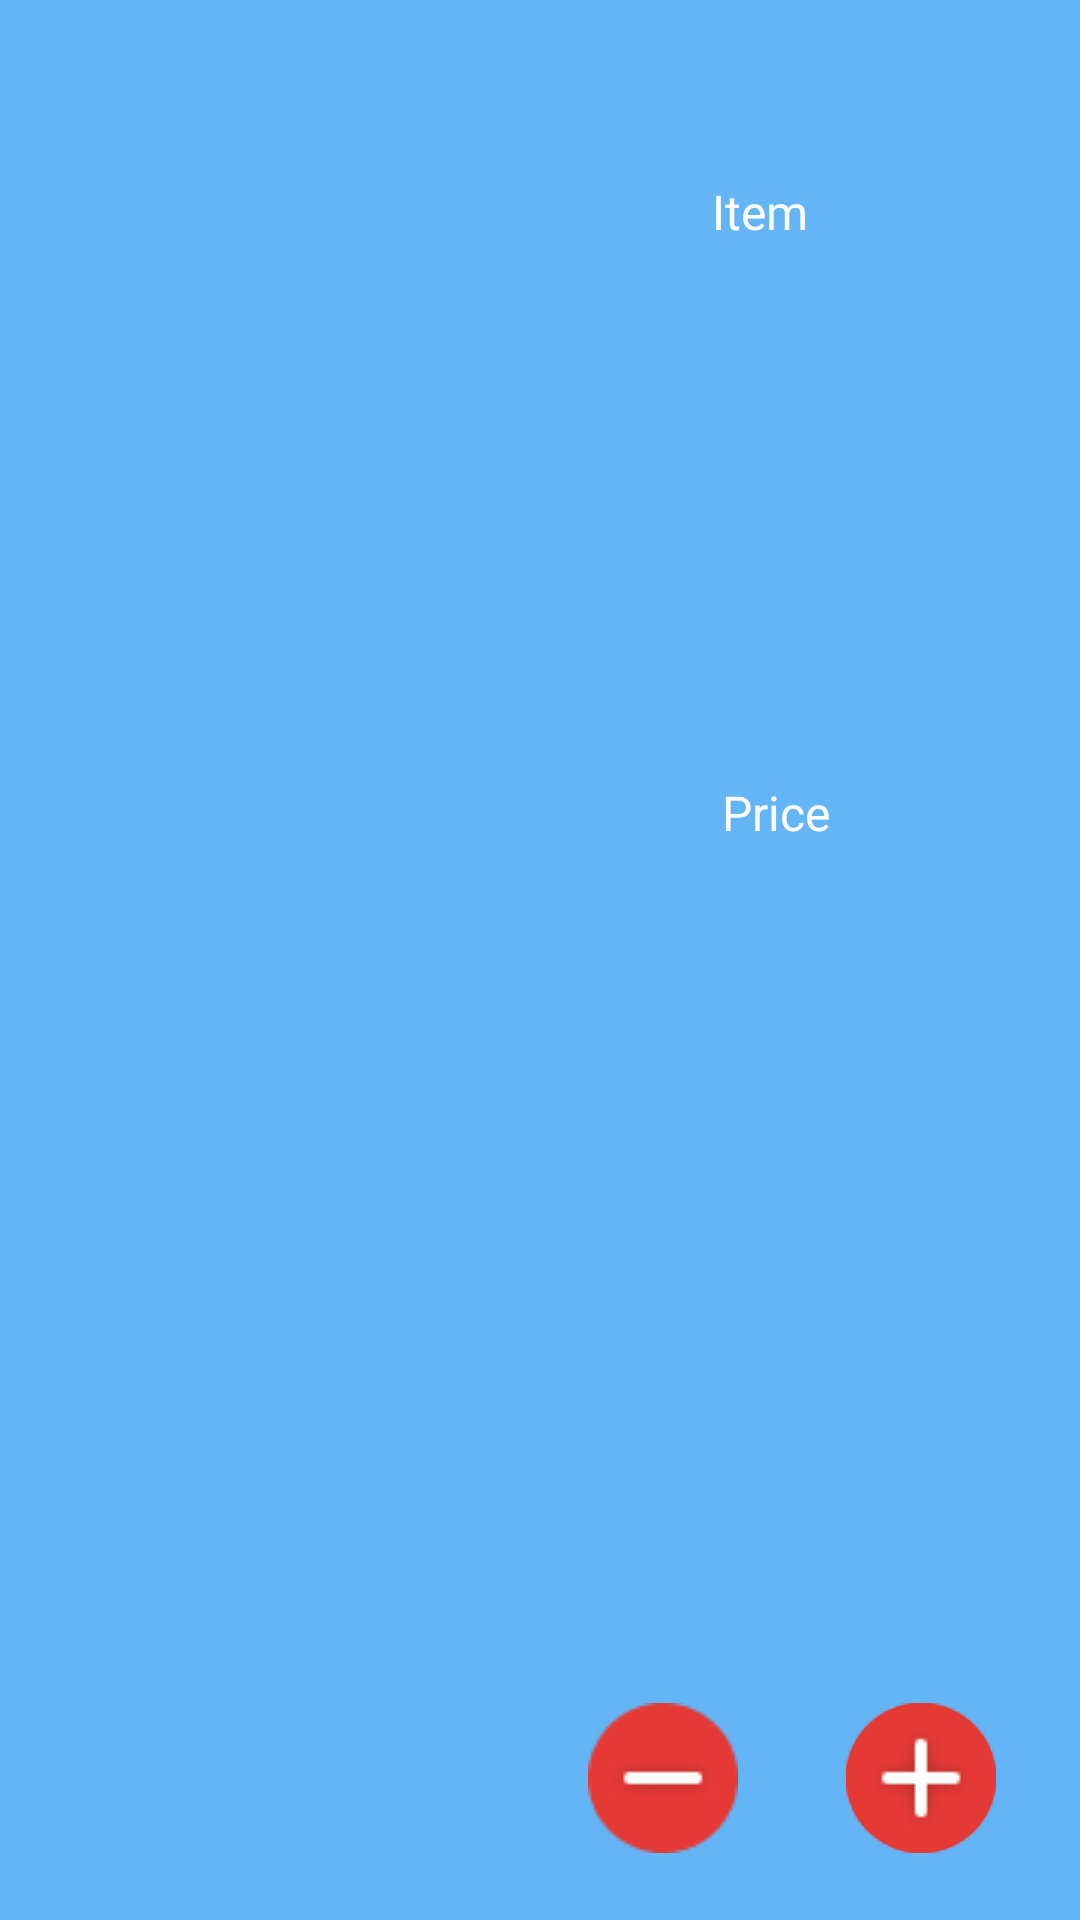

Named icons in this screenshot (1080 x 1920) and their centers, (x=x, y=y):
minus: (x=663, y=1778)
plus: (x=921, y=1778)
